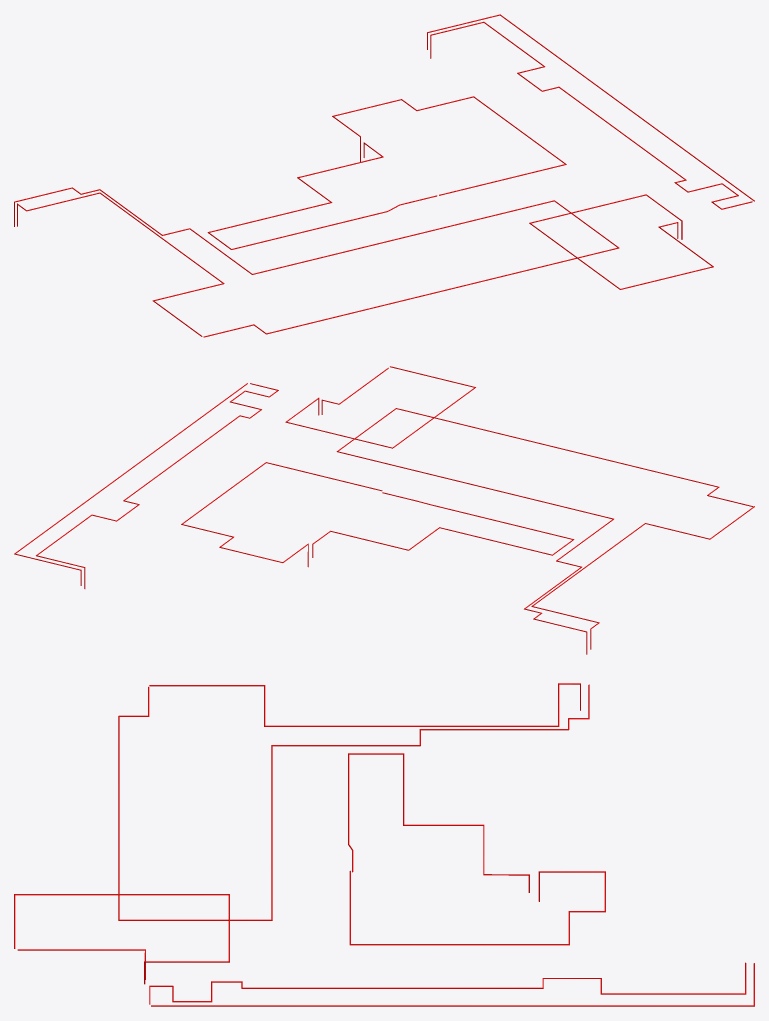
File: SM_tuyaux_rouge.FBX
3 views of the same model, one above another, from view 1: azimuth 30°, elevation 25°; view 2: azimuth 150°, elevation 25°; view 3: azimuth 270°, elevation 25° (orthographic). The views are drawn at different scales.
Parts seen in each view (by area): view 1: Line056; view 2: Line056; view 3: Line056.
Boxes of the visible parts, x1,y1,x2,y2 form: Line056: (14, 14, 754, 337); Line056: (14, 366, 754, 654); Line056: (14, 683, 754, 1006).
Bounding box in the file's own units: 2884 × 132 × 2801.
